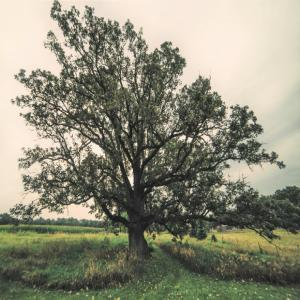Tree: (10, 0, 285, 257)
